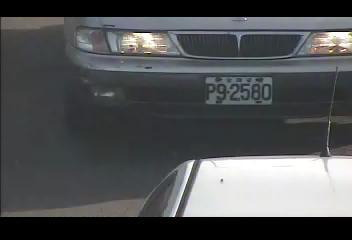plate: (202, 74, 275, 107)
